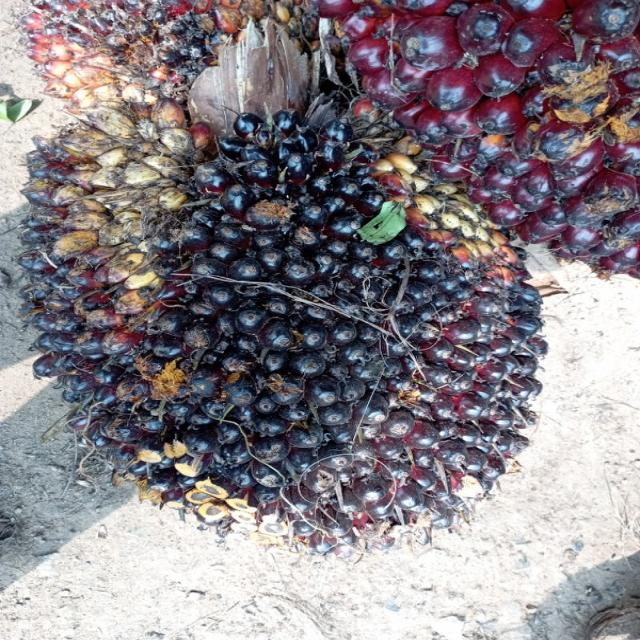fraksi 00: (17, 113, 568, 553)
